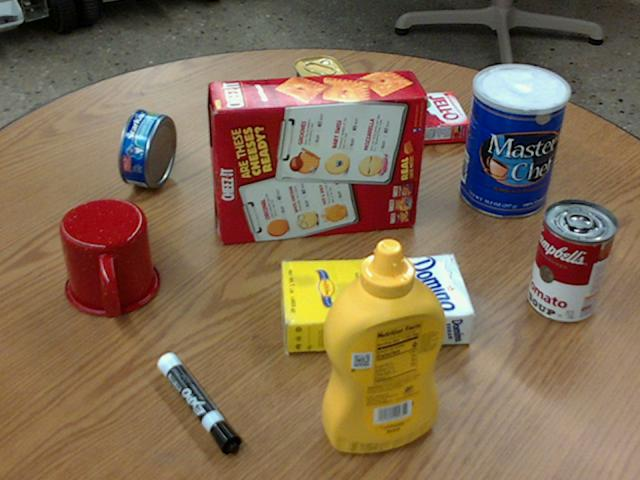cracker_box: (208, 69, 424, 244)
gelatin_box: (399, 91, 470, 142)
large_marker: (156, 353, 238, 452)
master_chef_can: (459, 63, 568, 217)
mug: (60, 198, 160, 315)
mustard_bottle: (321, 239, 444, 452)
potted_meat_can: (294, 55, 356, 151)
sugar_box: (279, 255, 474, 351)
tomato_soup_can: (529, 199, 617, 322)
tuna_fish_can: (119, 110, 174, 188)
